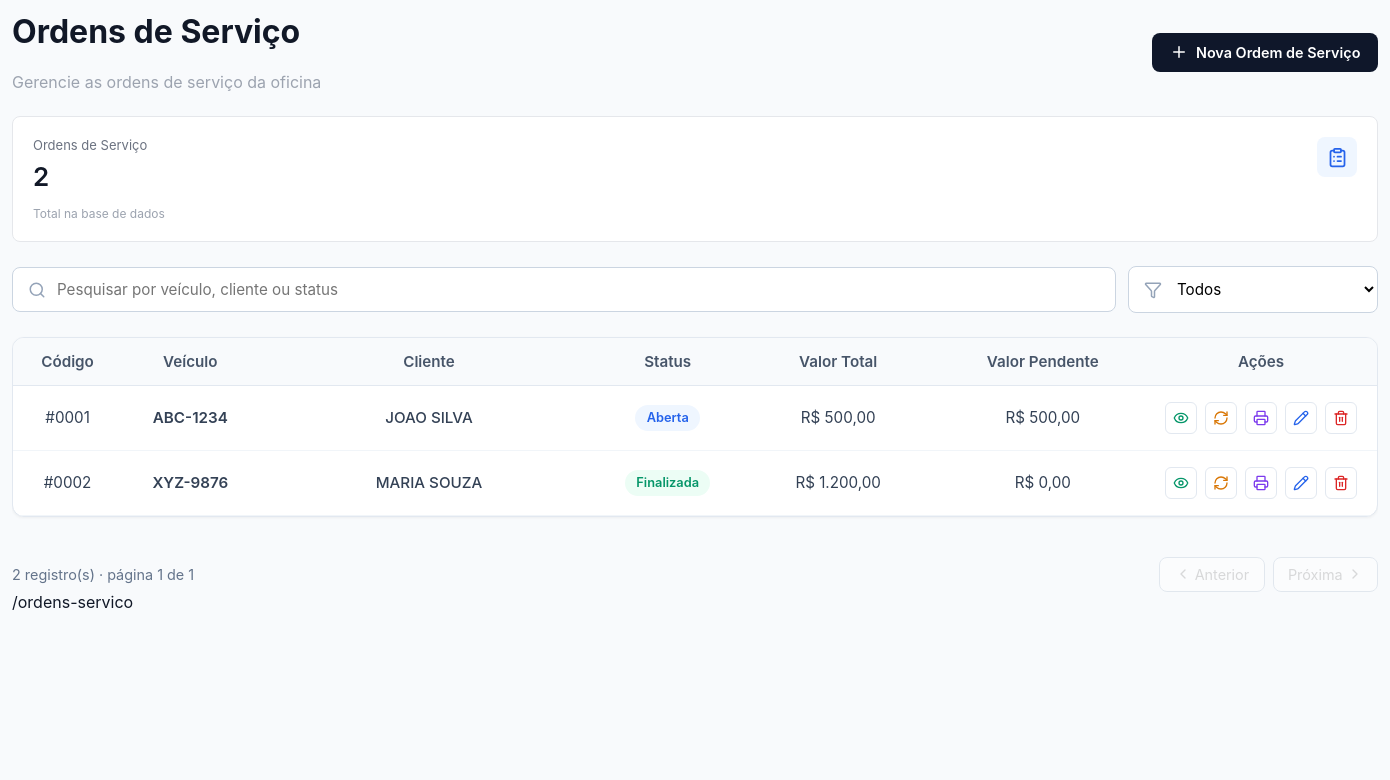
Test: Página de Ordens de Serviço › pesquisa e filtros (no servidor) › o filtro de status é enviado ao servidor e combina com a pesquisa
Check: the text "#0001" is shown, box [13,385,122,450]
Select "Finalizada" in the dropdown named "Filtrar por status" at {"x": 1253, "y": 290}, box [1128,266,1378,313]
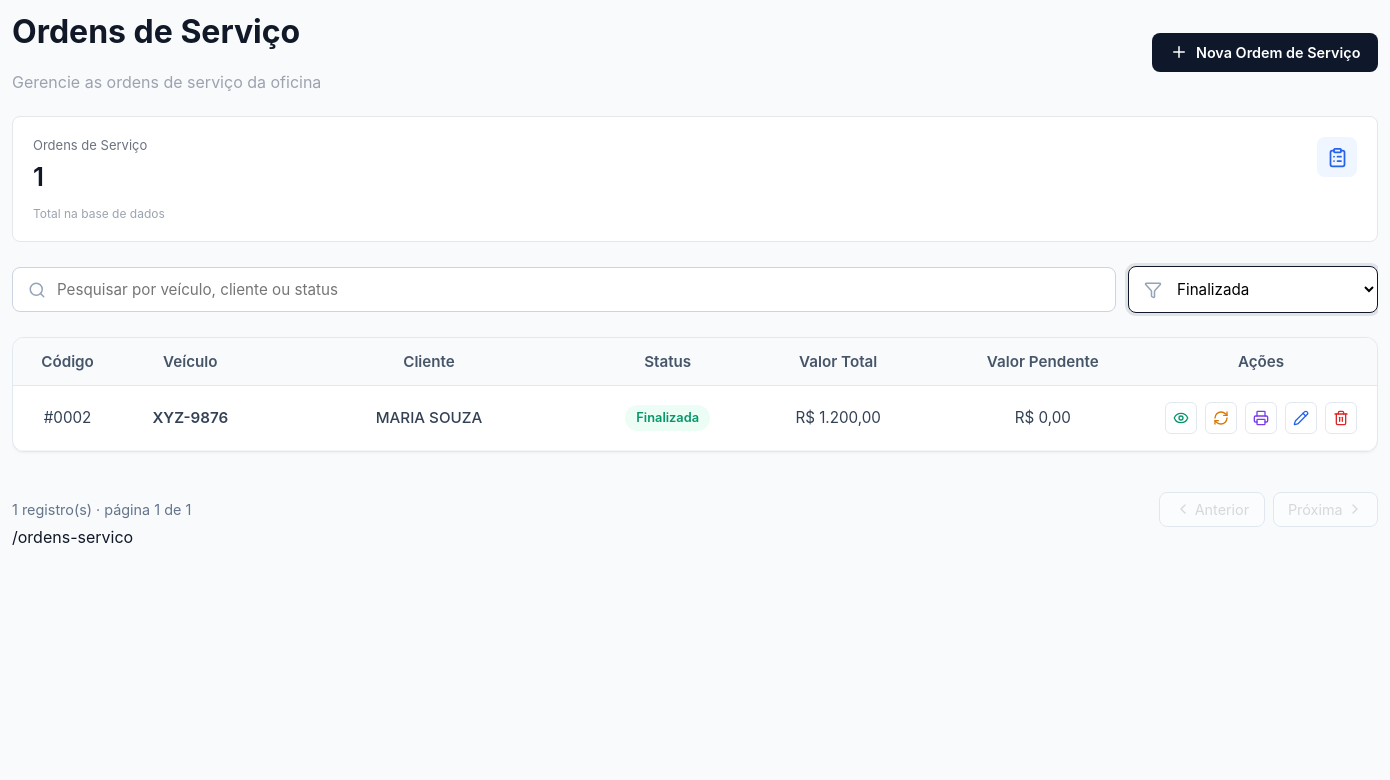
Check: the text "#0002" is shown, box [13,385,122,450]
Check: the text "#0001" is gone
Select "Cancelada" in the dropdown named "Filtrar por status" at {"x": 1253, "y": 290}, box [1128,266,1378,313]
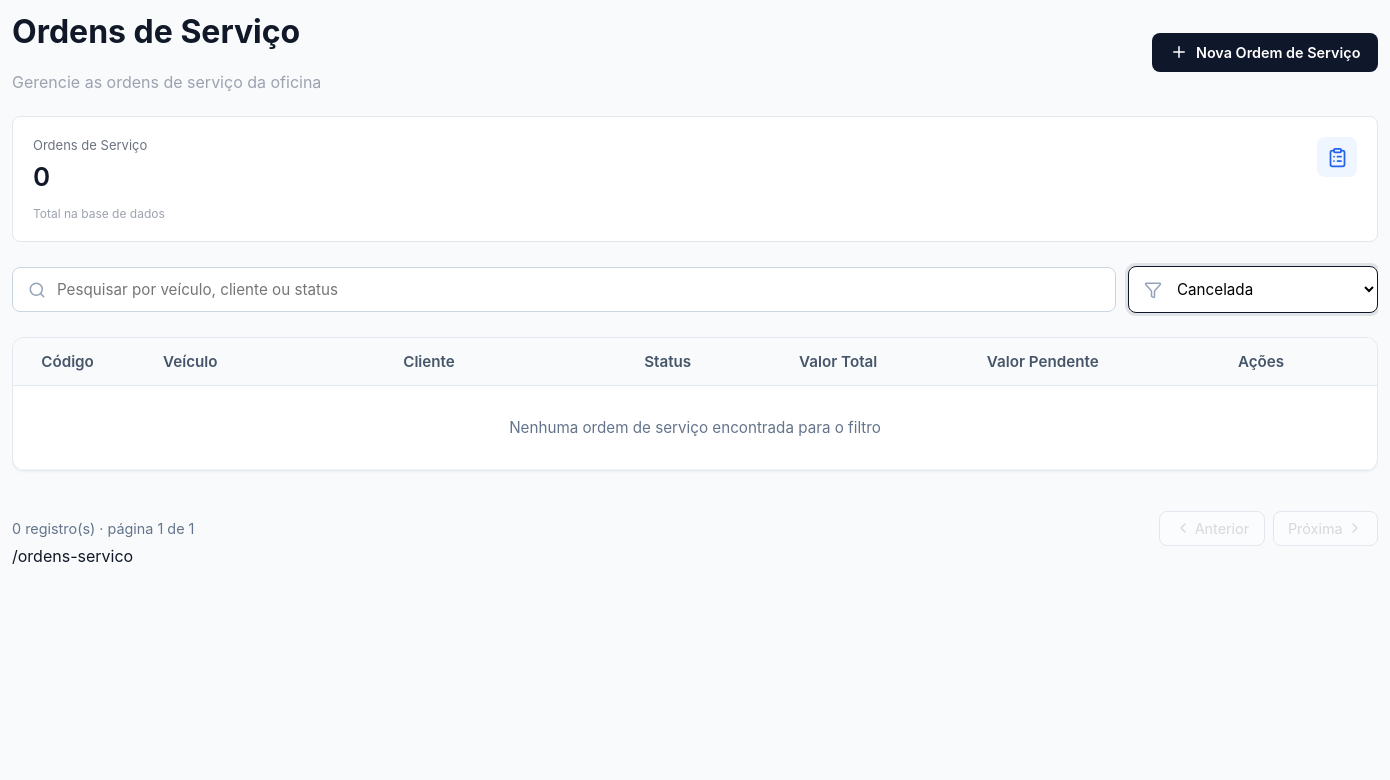
Check: the text "Nenhuma ordem de serviço encontrada para o filtro" is shown, box [13,385,1377,469]
Select "Todos" in the dropdown named "Filtrar por status" at {"x": 1253, "y": 290}, box [1128,266,1378,313]
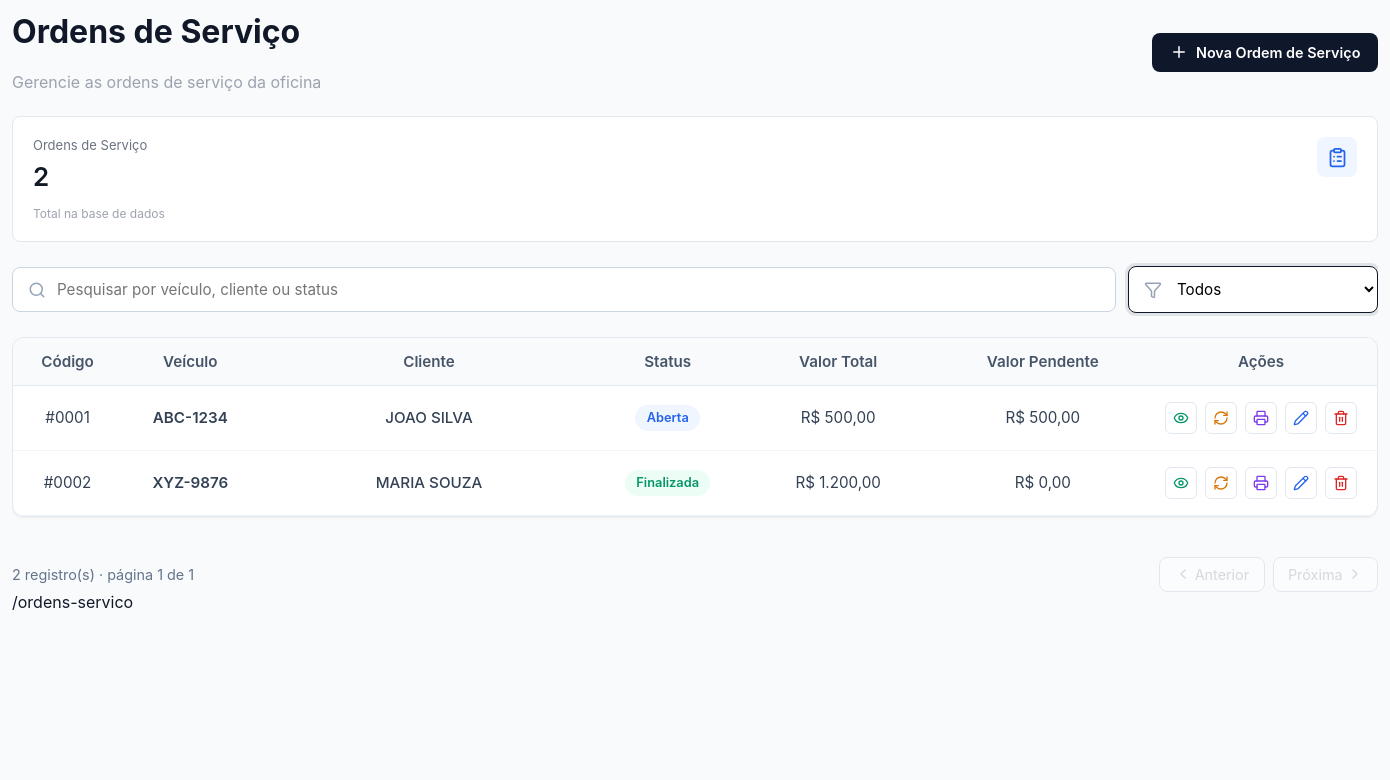
Check: the text "#0001" is shown, box [13,385,122,450]
Check: the text "#0002" is shown, box [13,450,122,515]
